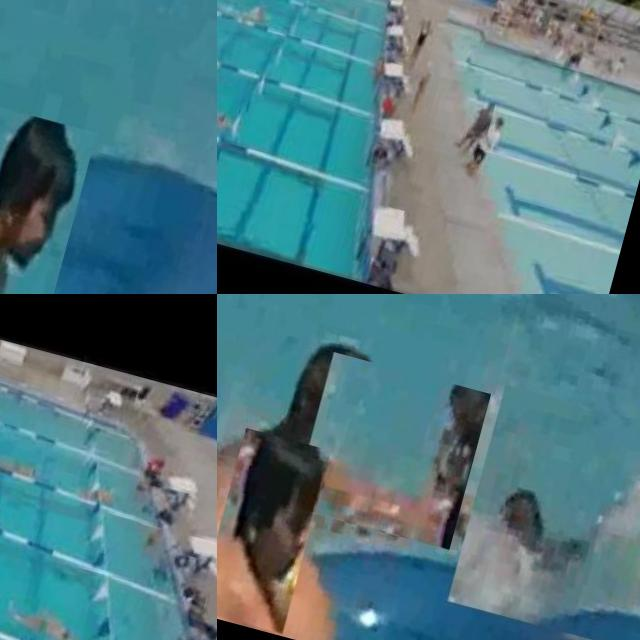drowning: (447, 384, 640, 640)
swimming: (292, 352, 493, 552), (217, 427, 332, 635), (0, 71, 97, 294), (10, 594, 76, 640), (234, 0, 284, 36), (0, 442, 38, 481)
